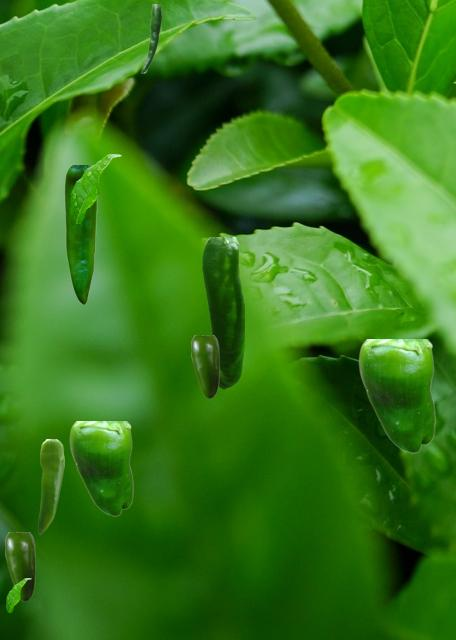green_chili: (358, 339, 434, 452), (202, 237, 243, 388), (69, 421, 132, 515), (64, 165, 96, 303), (38, 439, 63, 533), (5, 532, 34, 600), (191, 335, 218, 397), (141, 4, 160, 72)
